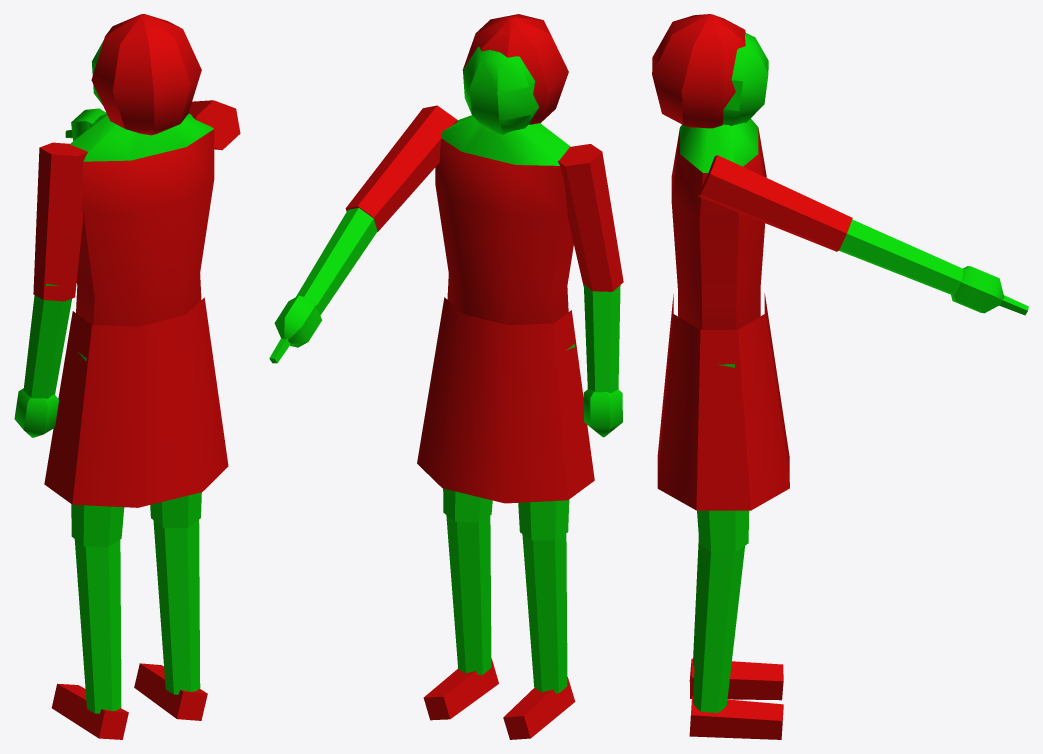
The model's file is stand_point.glb.
3 views of the same model, side by side, from view 1: azimuth 30°, elevation 25°; view 2: azimuth 150°, elevation 25°; view 3: azimuth 270°, elevation 25° (orthographic). The views are drawn at different scales.
Visible parts, largest first — view 1: OUT; view 2: OUT; view 3: OUT.
Part boxes in pixels (left/top/right/bottom): OUT: left=14, top=14, right=240, bottom=739; OUT: left=269, top=14, right=623, bottom=739; OUT: left=652, top=14, right=1028, bottom=739.
Size of the model in its own units: 0.5599 by 1.73 by 0.8425.
